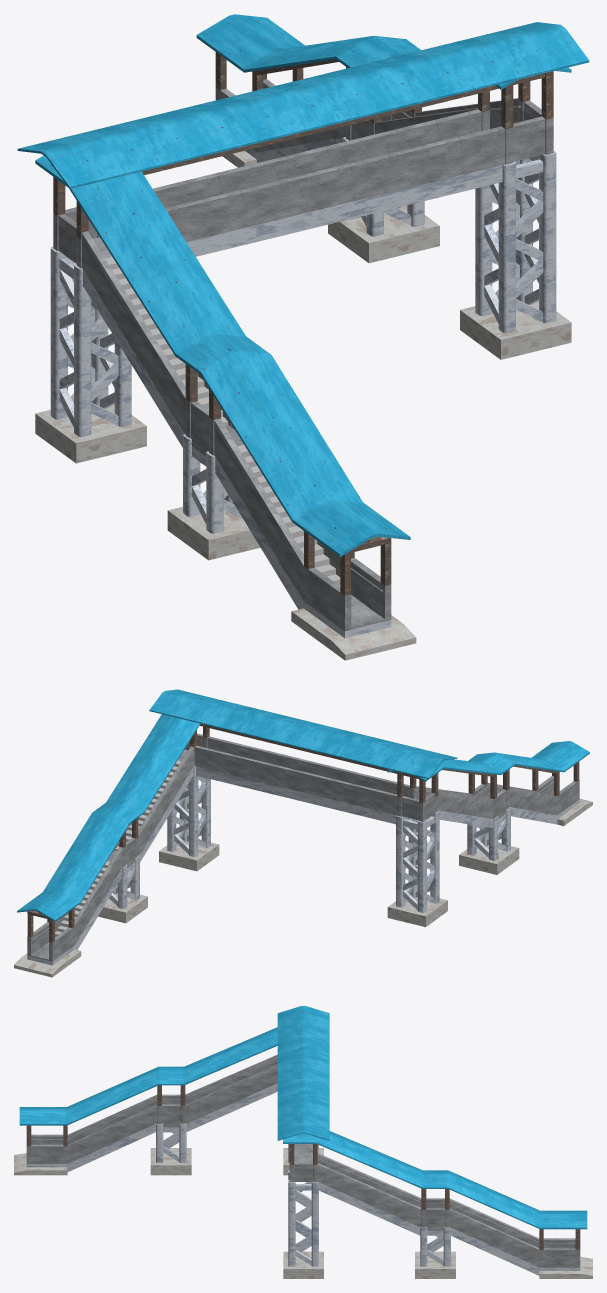
File: environment.fbx
3 renders of one model, top to bottom at view 1: azimuth 30°, elevation 25°; view 2: azimuth 150°, elevation 25°; view 3: azimuth 270°, elevation 25°, orthographic. The views are drawn at different scales.
Visible parts, largest first — view 1: bridge.001, bridge, Cube.032, Cube.002; view 2: bridge.001, bridge, Cube.049, Cube.017; view 3: bridge.001, bridge.
Boxes of the visible parts, left/top/right/bottom form: bridge.001: left=35, top=52, right=571, bottom=660; bridge: left=17, top=14, right=589, bottom=556; Cube.032: left=105, top=257, right=228, bottom=425; Cube.002: left=237, top=444, right=340, bottom=585; bridge.001: left=14, top=724, right=592, bottom=977; bridge: left=17, top=689, right=589, bottom=921; Cube.049: left=115, top=760, right=180, bottom=850; Cube.017: left=55, top=861, right=110, bottom=936; bridge.001: left=14, top=1054, right=592, bottom=1278; bridge: left=19, top=1006, right=587, bottom=1229.
Size of what is drawn, in the model's own units: 2590 by 1421 by 5001.
